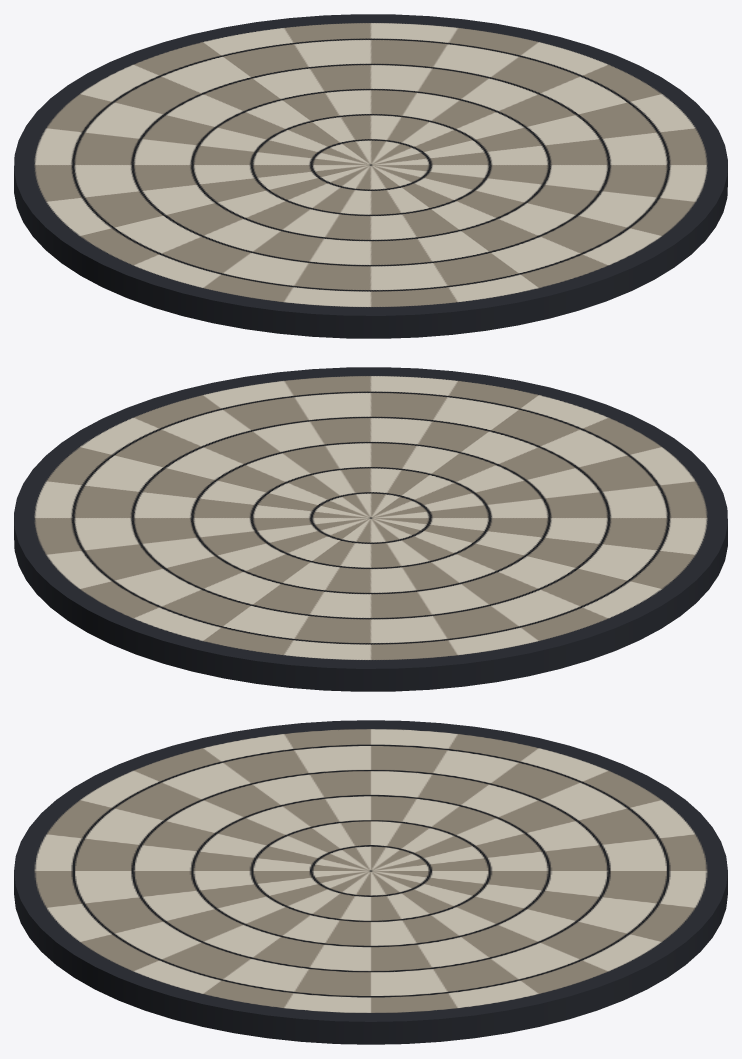
File: turntable.obj
3 views of the same model, one above another, from view 1: azimuth 30°, elevation 25°; view 2: azimuth 150°, elevation 25°; view 3: azimuth 270°, elevation 25° (orthographic).
Parts seen in each view (by area): view 1: Turntable; view 2: Turntable; view 3: Turntable.
Part boxes in pixels (bbox=[...]): Turntable: bbox=[14, 14, 727, 338]; Turntable: bbox=[14, 367, 727, 691]; Turntable: bbox=[14, 720, 727, 1044].
Size of the model in its own units: 3.4 by 0.12 by 3.4.
1 material, 1 textured.
